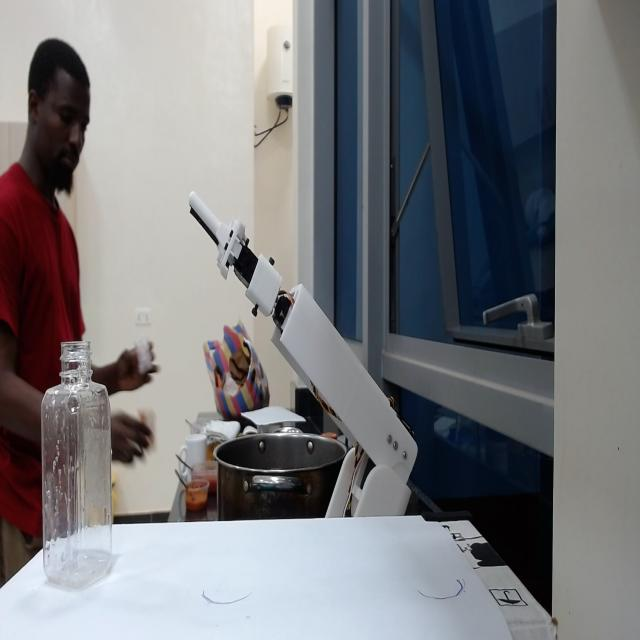cooking_pot: (214, 420, 348, 521)
